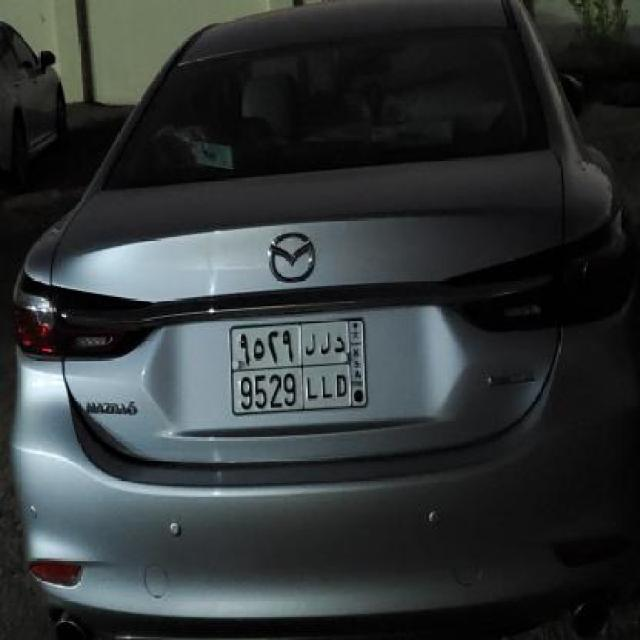license_plate: (228, 317, 369, 417)
